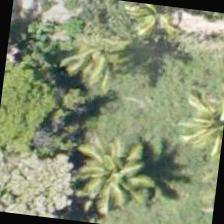Kelapa_Sawit: (51, 12, 151, 112), (55, 133, 157, 223)
